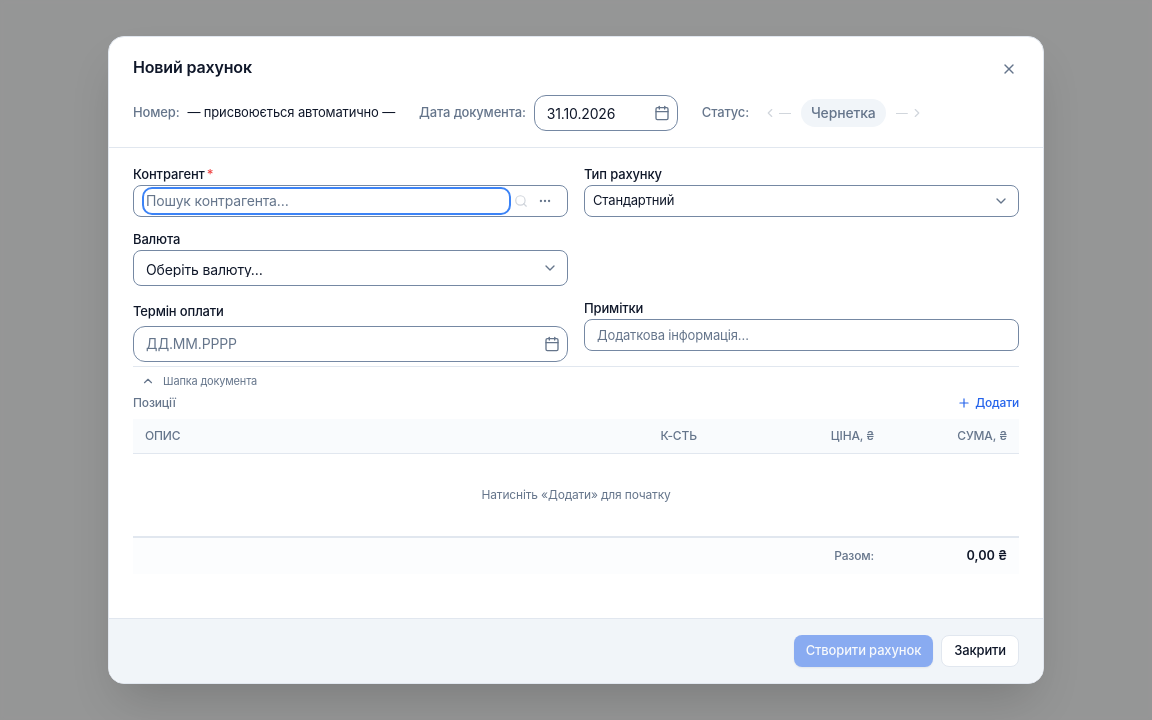
Scenario: Таблична частина нової картки — рахунок › після «Додати» з'являється рядок вводу: підказки й самої кнопки вже немає
What coordinates should you click on to do the following:
click the button "Додати"
I would click on:
 (988, 403)
Its box is [957, 395, 1019, 411].
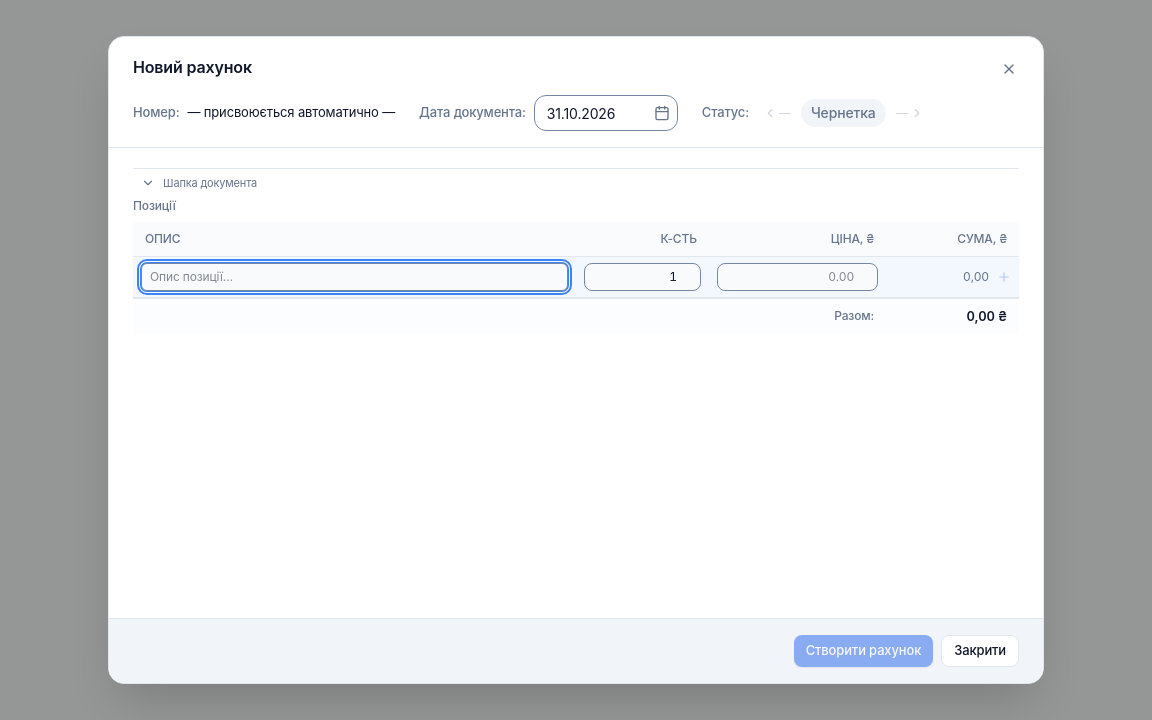
Result: the text "Натисніть «Додати» для початку" is gone
Result: the button "Додати" is gone
